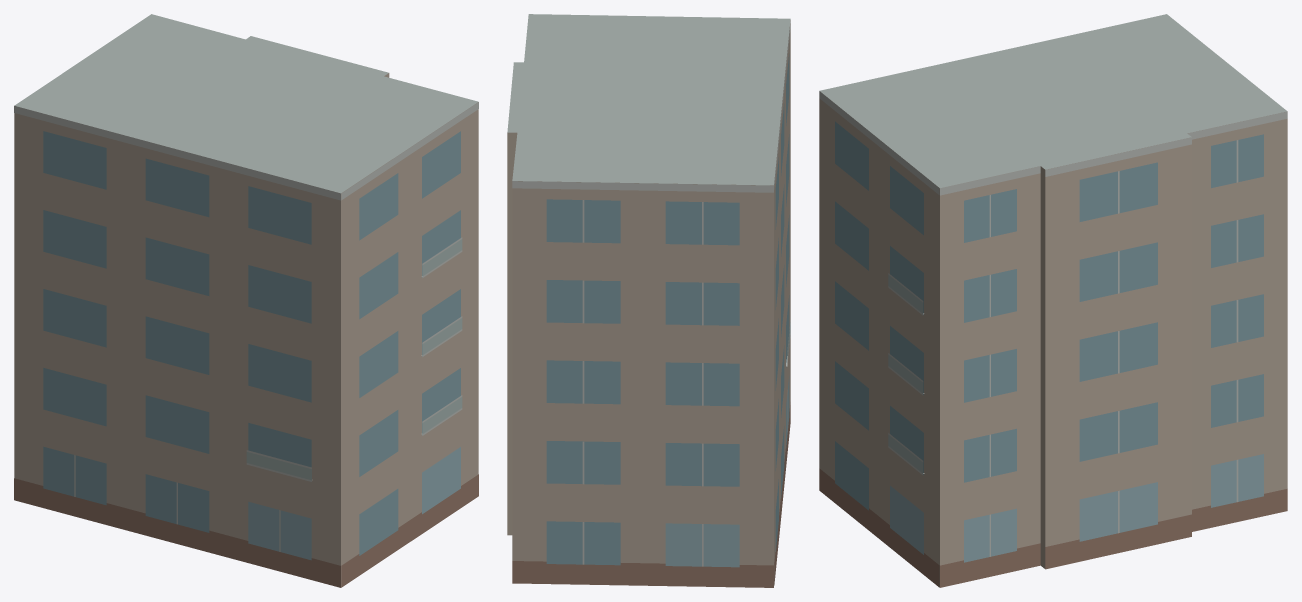
The model's file is survey-upis-32838278.glb.
The picture shows the model from 3 angles, left to right: view 1: azimuth 30°, elevation 25°; view 2: azimuth 150°, elevation 25°; view 3: azimuth 270°, elevation 25°; orthographic projection. The views are drawn at different scales.
Visible parts, largest first — view 1: survey-upis-32838278.tmp; view 2: survey-upis-32838278.tmp; view 3: survey-upis-32838278.tmp.
Boxes of the visible parts, box(x1,y1,x2,y2) form: survey-upis-32838278.tmp: box(14, 14, 478, 587); survey-upis-32838278.tmp: box(507, 14, 790, 587); survey-upis-32838278.tmp: box(819, 14, 1287, 587).
Bounding box in the file's own units: 12.45 × 13.3 × 14.14.
